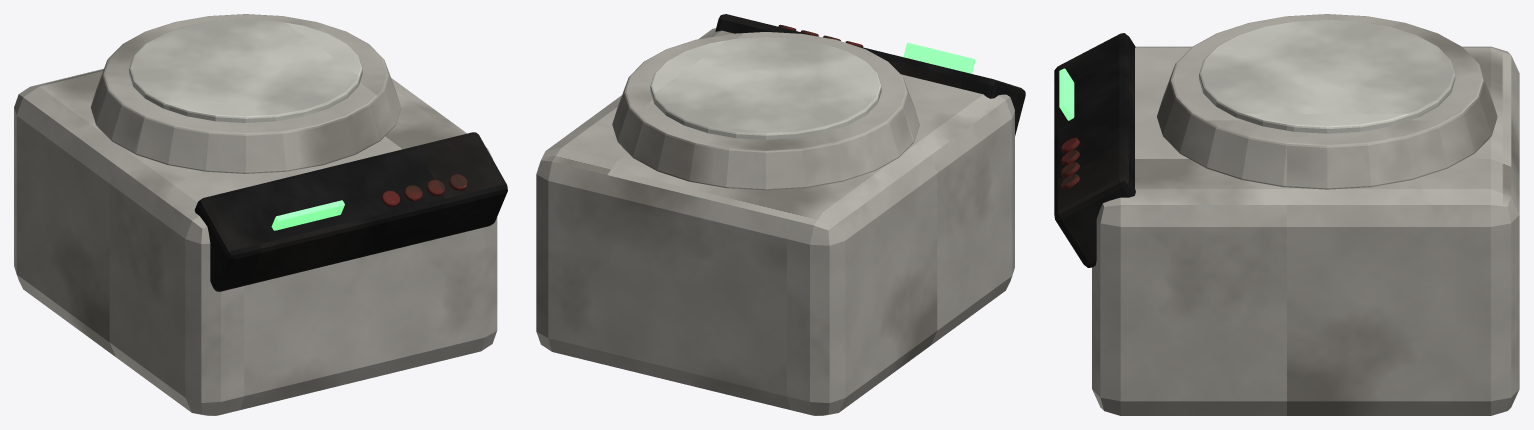
The model's file is Y03_centrifuge.glb.
3 renders of one model, left to right at view 1: azimuth 30°, elevation 25°; view 2: azimuth 150°, elevation 25°; view 3: azimuth 270°, elevation 25°, orthographic. The views are drawn at different scales.
Parts seen in each view (by area): view 1: Y03_centrifuge; view 2: Y03_centrifuge; view 3: Y03_centrifuge.
Part boxes in pixels (<box>): Y03_centrifuge: <box>14,14,507,415</box>; Y03_centrifuge: <box>536,14,1025,415</box>; Y03_centrifuge: <box>1054,14,1519,415</box>.
Bounding box in the file's own units: 0.5054 × 0.3859 × 0.6.
5 materials, 5 textured.
